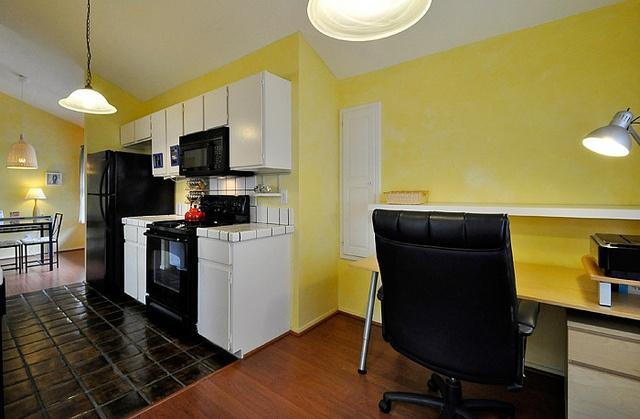Kursi: (372, 207, 541, 418)
Meja: (347, 255, 639, 322)
